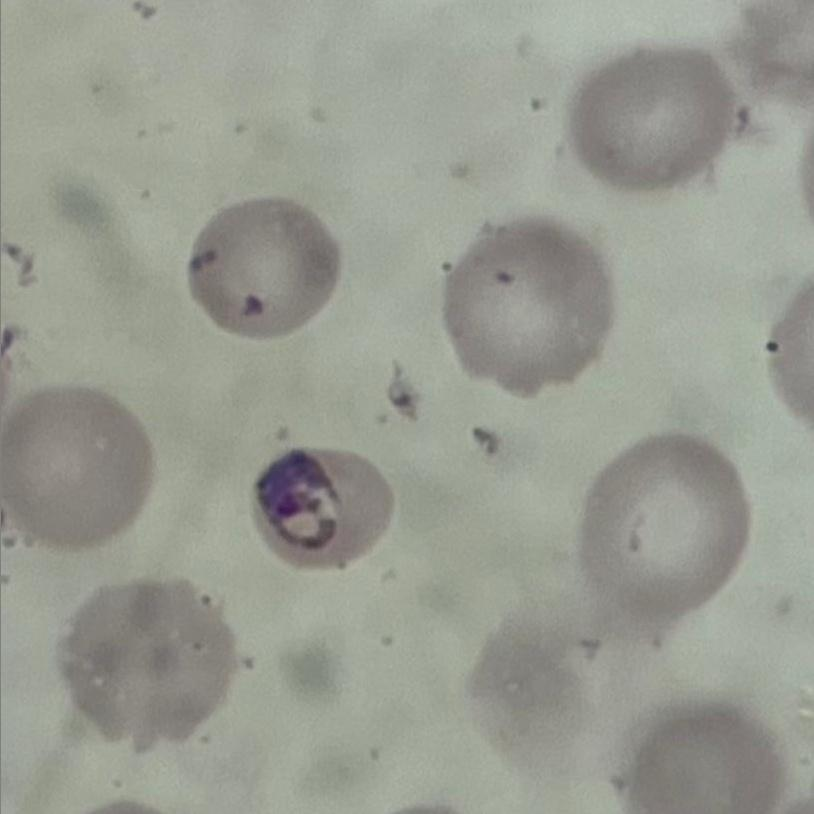Infected: (253, 442, 393, 572)
Uninfected: (575, 430, 751, 620), (440, 219, 611, 400), (57, 577, 237, 746), (0, 384, 152, 551), (572, 44, 725, 198), (187, 195, 337, 335), (630, 707, 783, 814)
